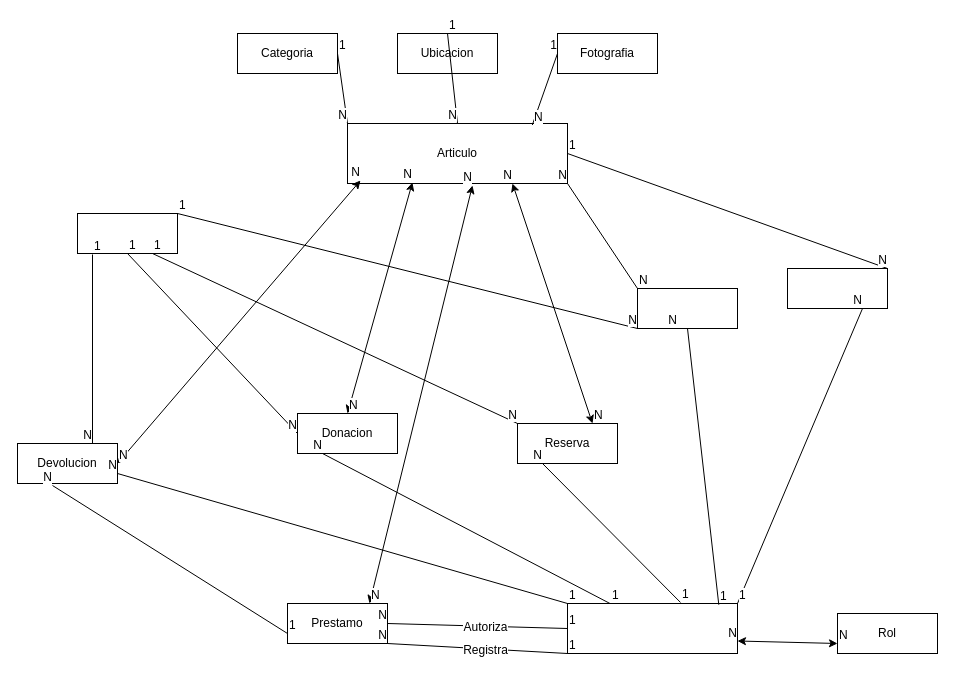
This 955x674 diagram has some shape labels left out. Each missing label, with the centre of its shape:
"Entrega" belongs at point (687, 308).
"Movimiento" belongs at point (837, 288).
"Tercero" belongs at point (127, 233).
"Usuario" belongs at point (652, 628).
